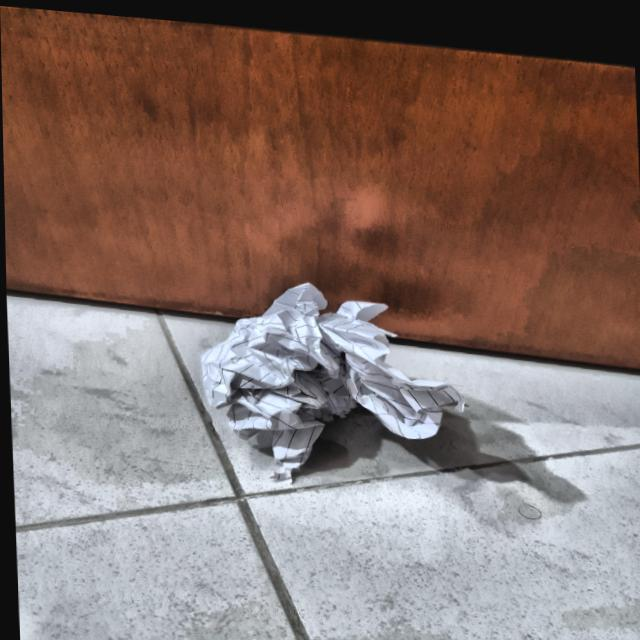Paper: (203, 268, 440, 479)
